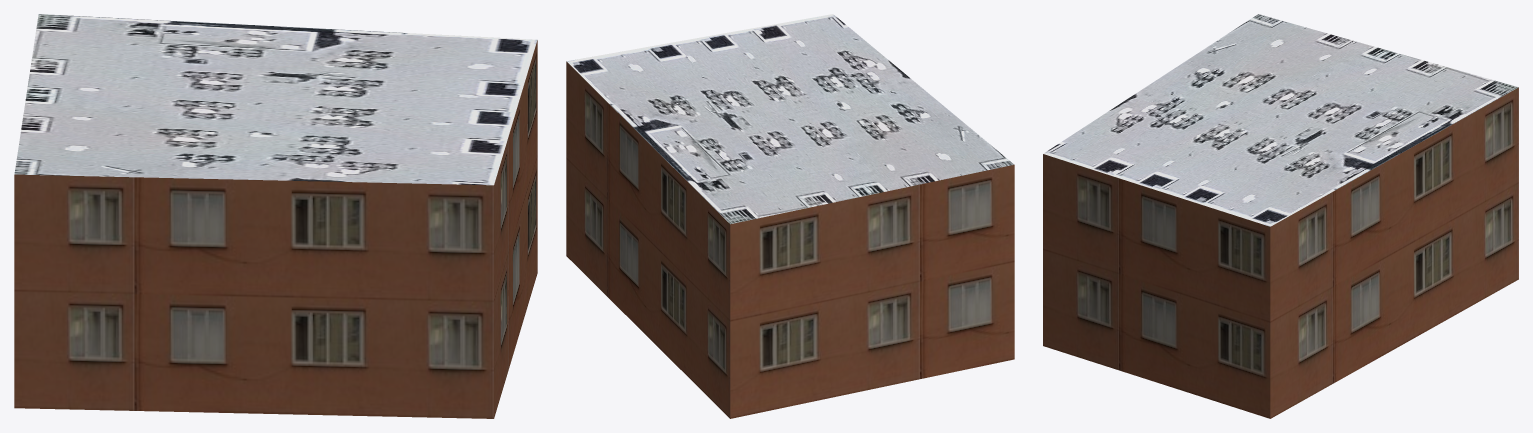
The model's file is ResTex__77.fbx.
3 views of the same model, side by side, from view 1: azimuth 30°, elevation 25°; view 2: azimuth 150°, elevation 25°; view 3: azimuth 270°, elevation 25° (orthographic). The views are drawn at different scales.
Parts seen in each view (by area): view 1: CityEngineMaterial_20_m, CityEngineMaterial_8_m; view 2: CityEngineMaterial_20_m, CityEngineMaterial_8_m; view 3: CityEngineMaterial_20_m, CityEngineMaterial_8_m.
Boxes of the visible parts, x1,y1,x2,y2 form: CityEngineMaterial_20_m: (14, 40, 537, 418); CityEngineMaterial_8_m: (14, 14, 537, 185); CityEngineMaterial_20_m: (566, 61, 1014, 418); CityEngineMaterial_8_m: (567, 14, 1013, 224); CityEngineMaterial_20_m: (1043, 87, 1518, 418); CityEngineMaterial_8_m: (1043, 14, 1518, 226).
Size of the model in its own units: 14.26 by 6 by 13.47.
2 materials, 2 textured.
